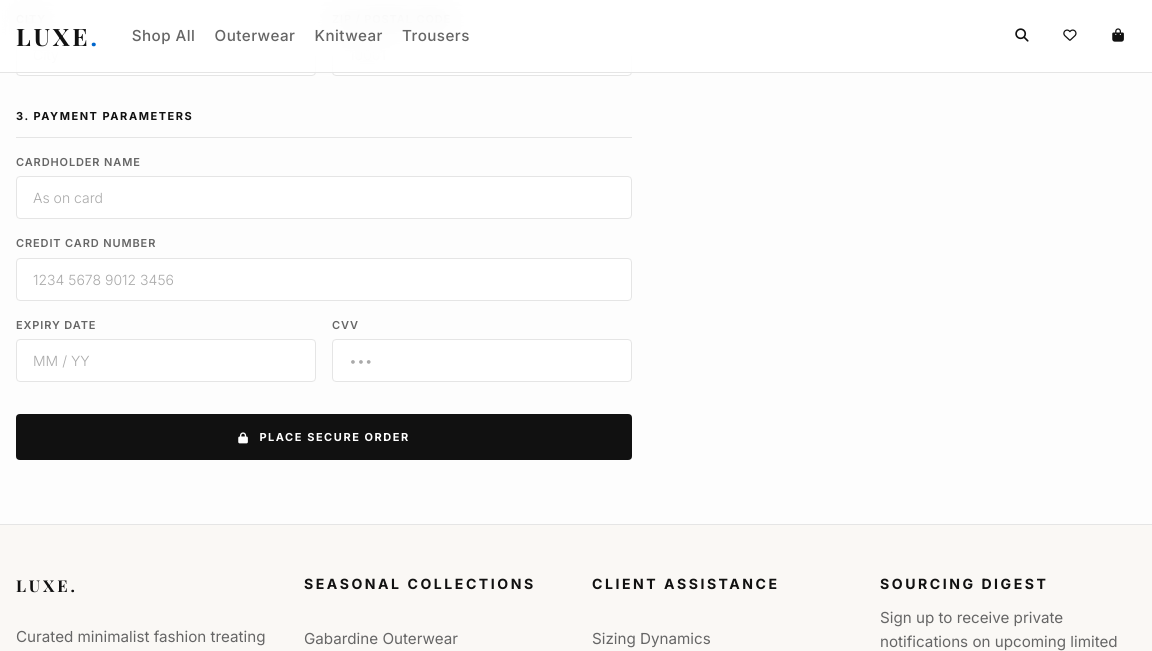
it: CheckoutScreen › CVV input strips non-numeric characters
(page scrolled)
In the field labelled "CVV": x=482, y=360 [332,339,632,382], type "12a3"
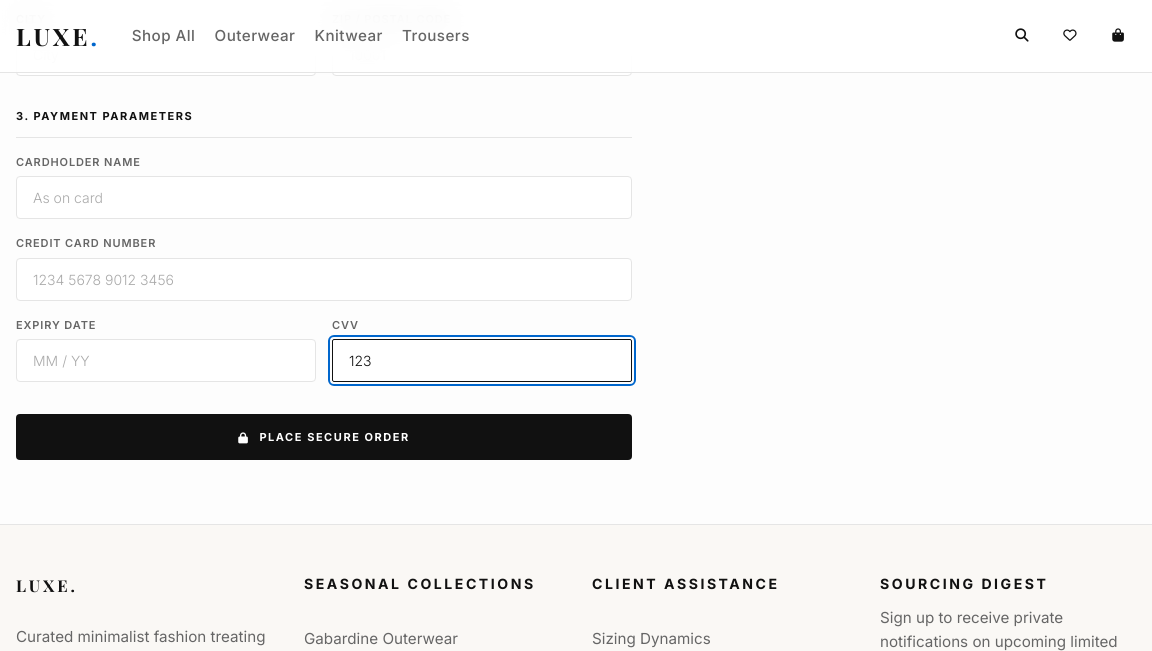
Now the field labelled "CVV" holds "123", box [332,339,632,382]
